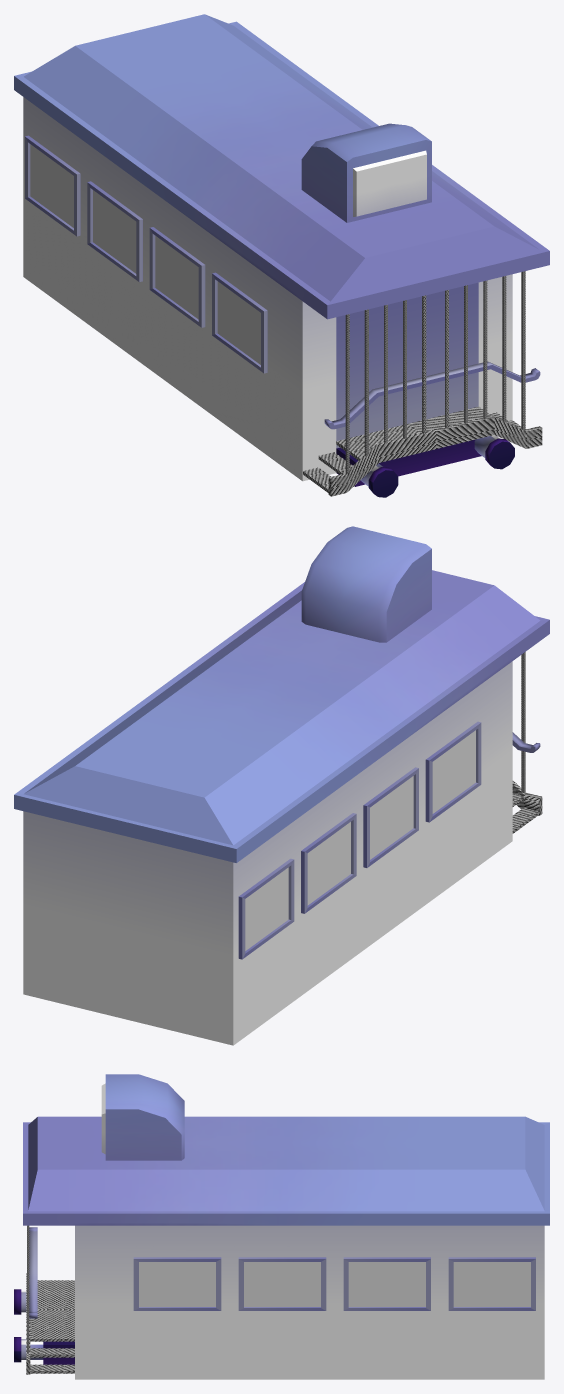
File: train.fbx
3 renders of one model, top to bottom at view 1: azimuth 30°, elevation 25°; view 2: azimuth 150°, elevation 25°; view 3: azimuth 270°, elevation 25°, orthographic. The views are drawn at different scales.
Parts seen in each view (by area): view 1: Cube; view 2: Cube; view 3: Cube.
Part boxes in pixels (left/top/right/bottom): Cube: left=14, top=14, right=549, bottom=497; Cube: left=14, top=526, right=549, bottom=1045; Cube: left=14, top=1074, right=549, bottom=1379.
Bounding box in the file's own units: 233 × 295 × 577.
